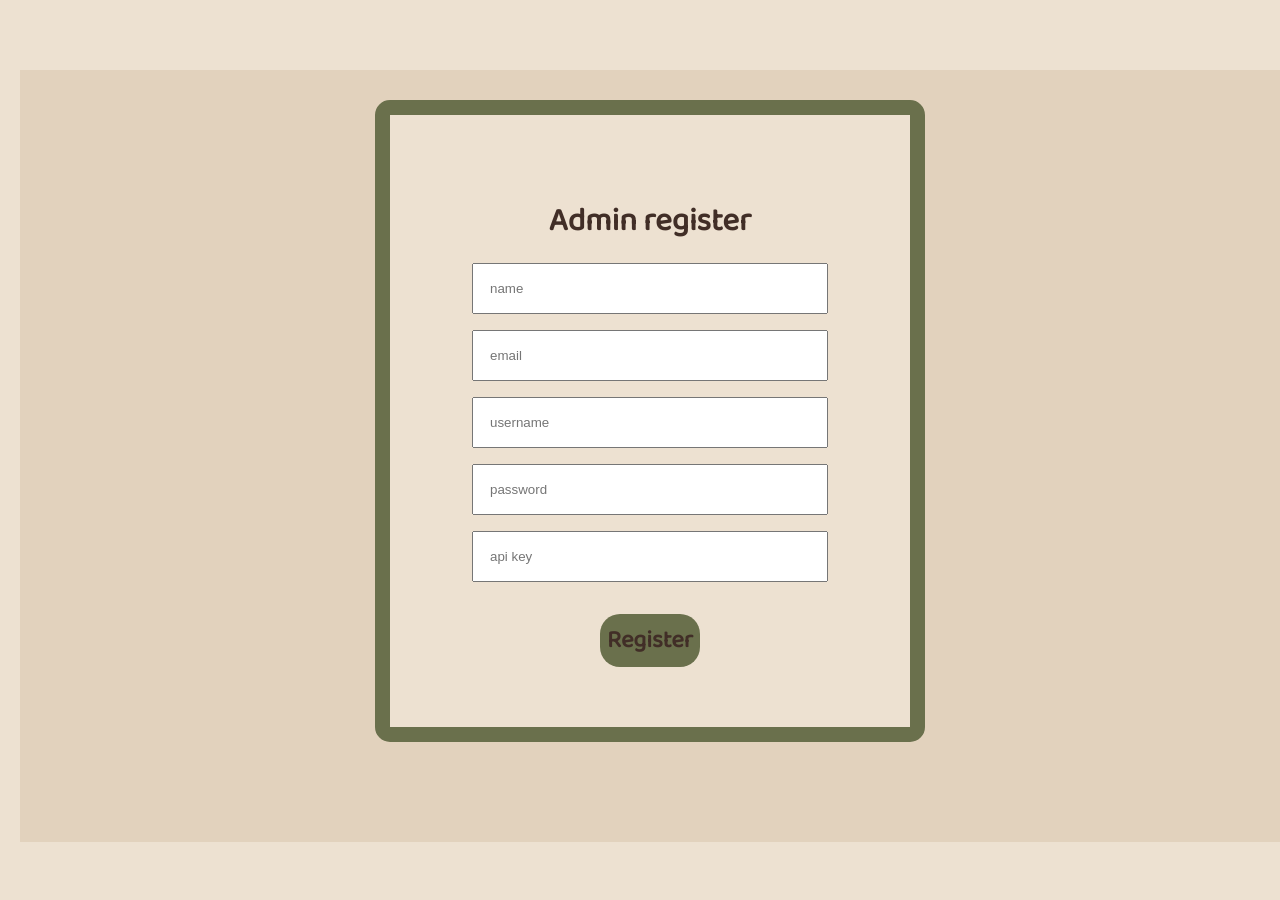
Test: AdminRegister component › should log error when adminregister fails
This screenshot has width=1280, height=900.
Type "testname" into the field with placeholder "name". click: [650, 289]
box: [472,263,828,314]
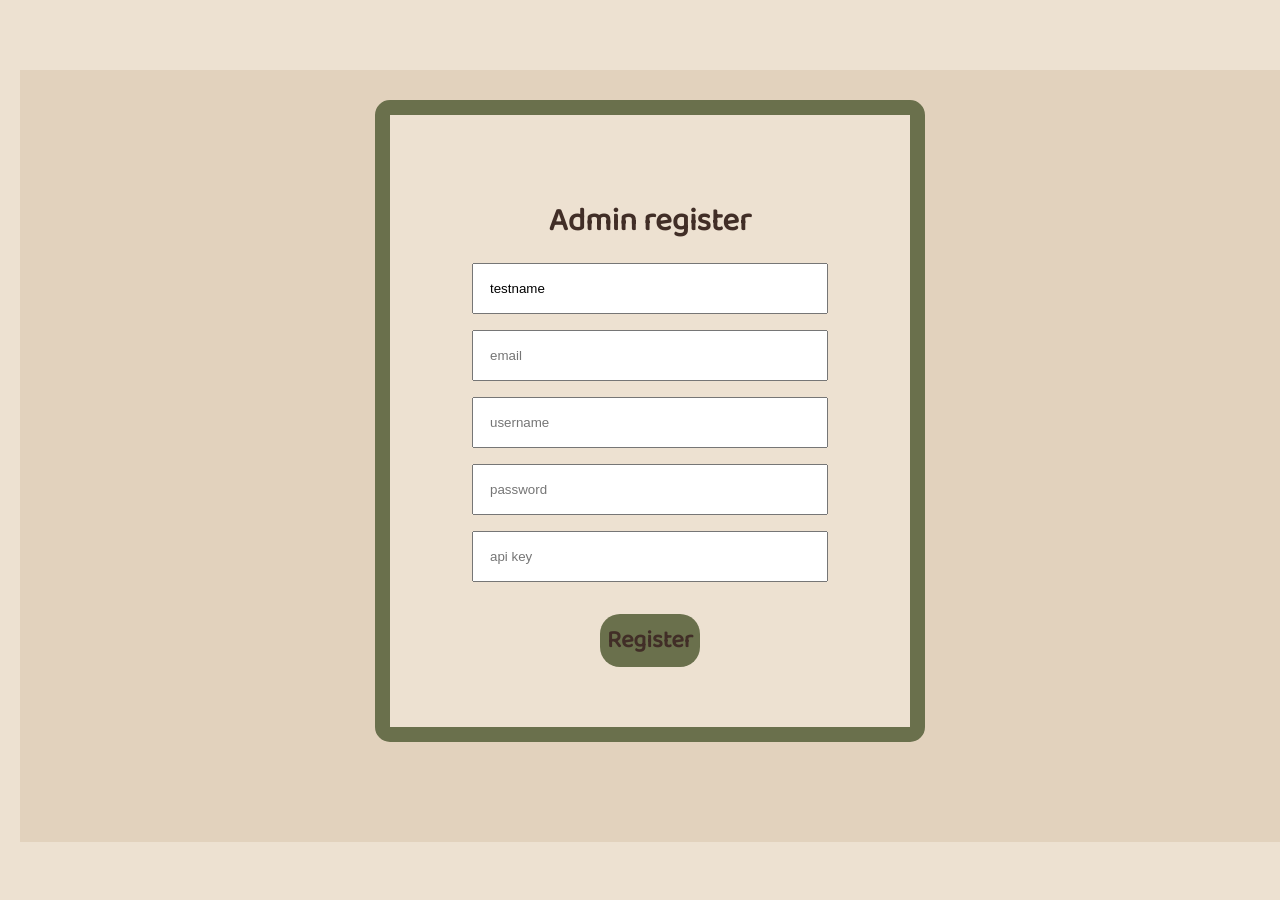
Type "testemail" into the field with placeholder "email". click: [650, 356]
box: [472,330,828,381]
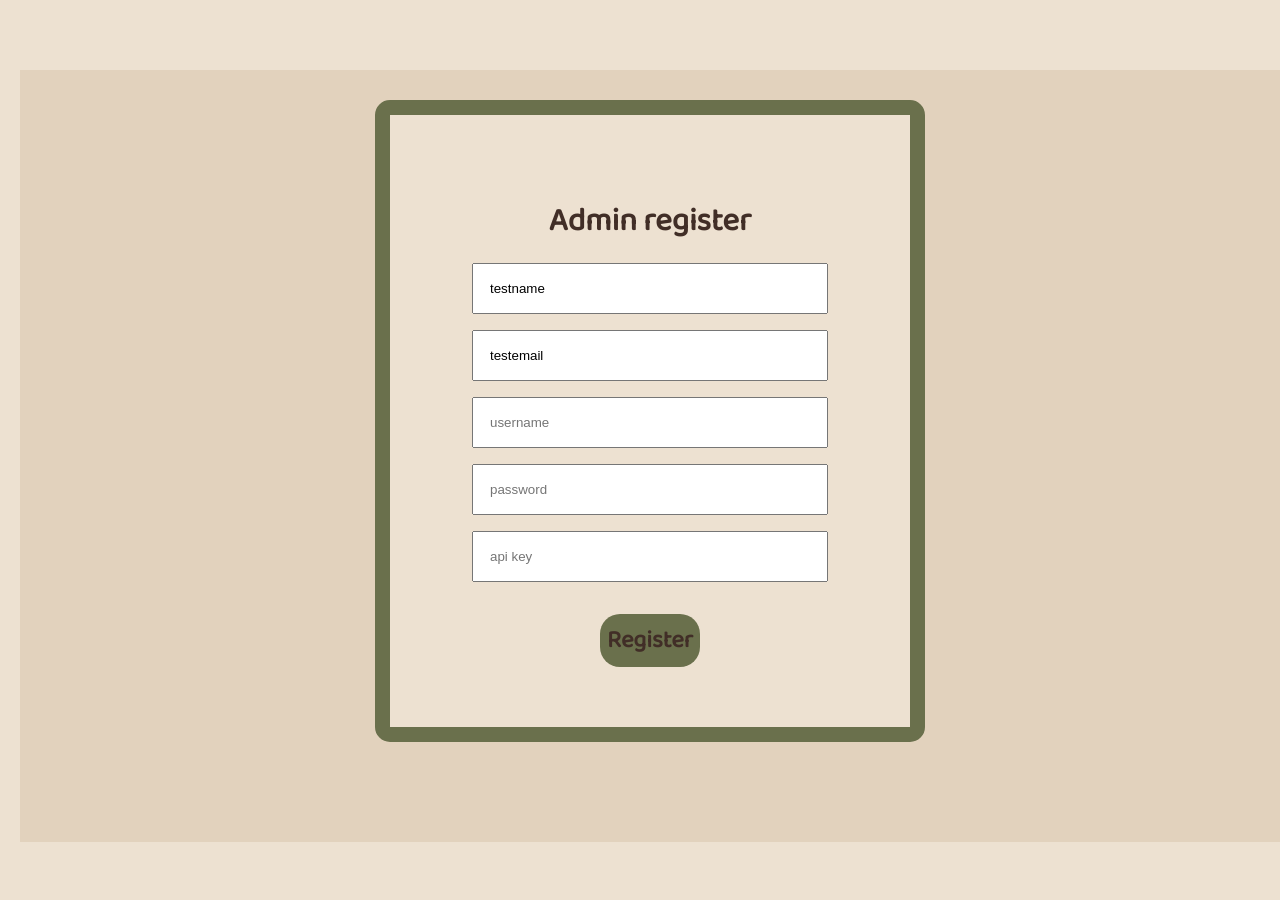
Type "testuser" into the field with placeholder "username". click: [650, 423]
box: [472,397,828,448]
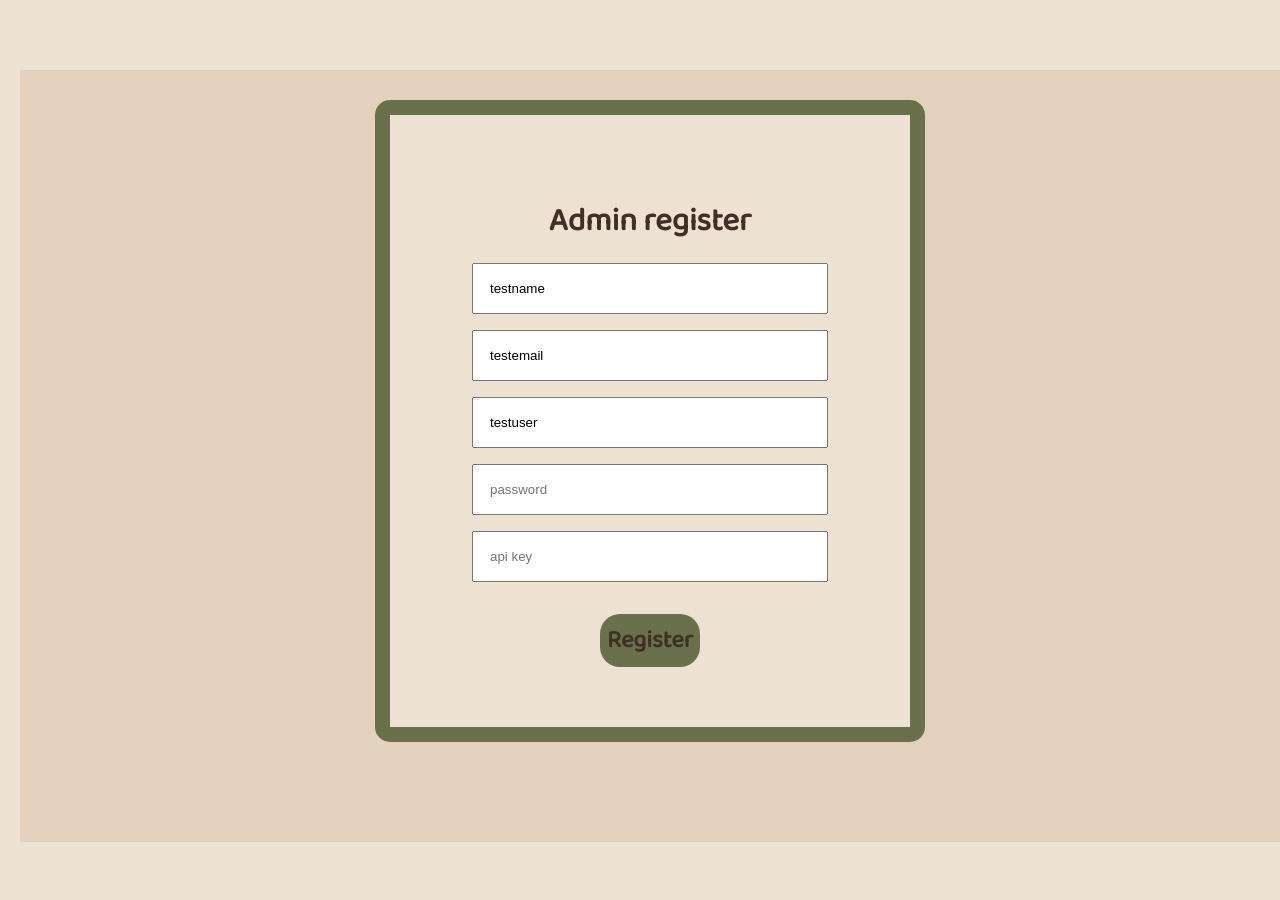
Type "testpassword" into the password field with placeholder "password". click: [650, 490]
box: [472,464,828,515]
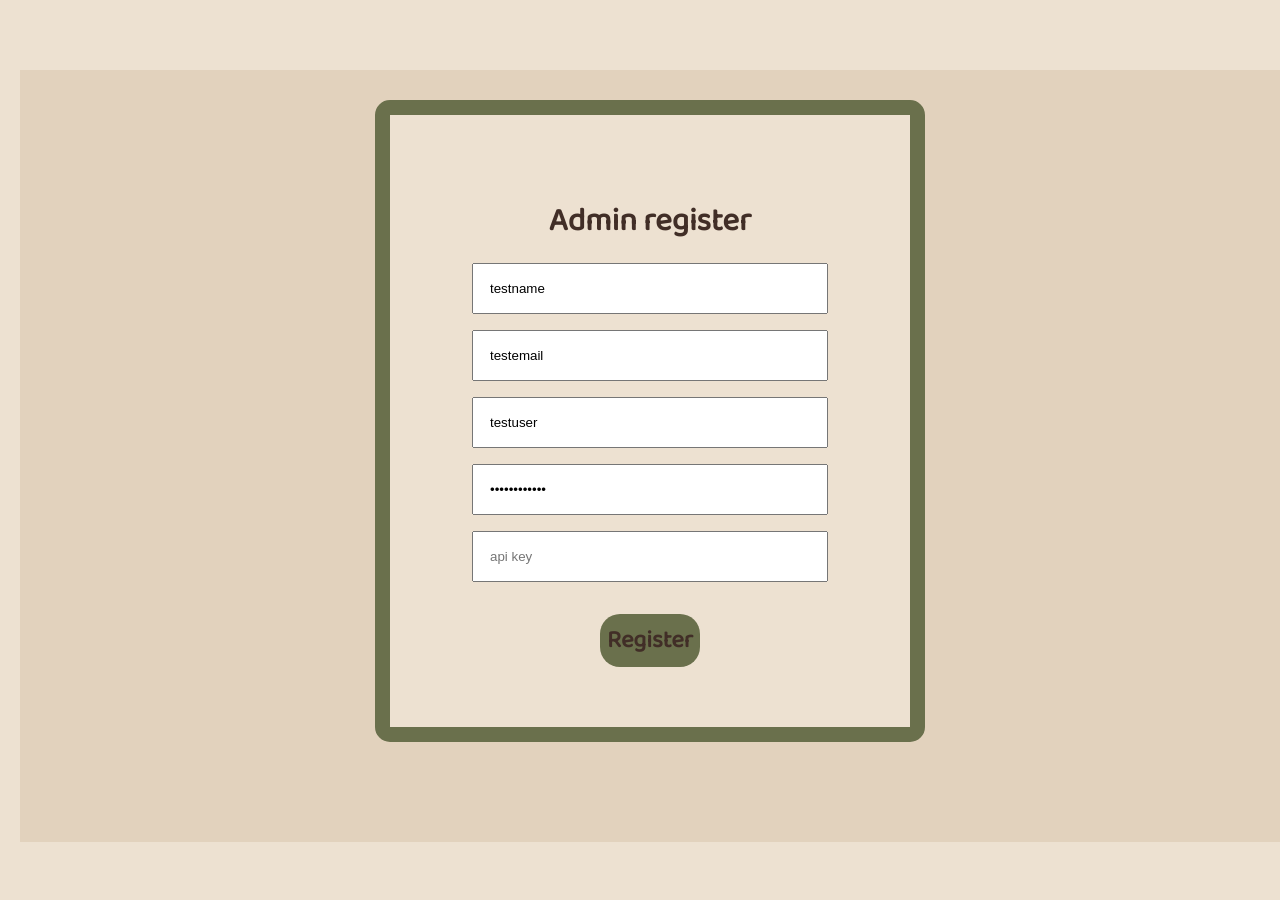
Type "testapi key" into the field with placeholder "api key". click: [650, 557]
box: [472,531,828,582]
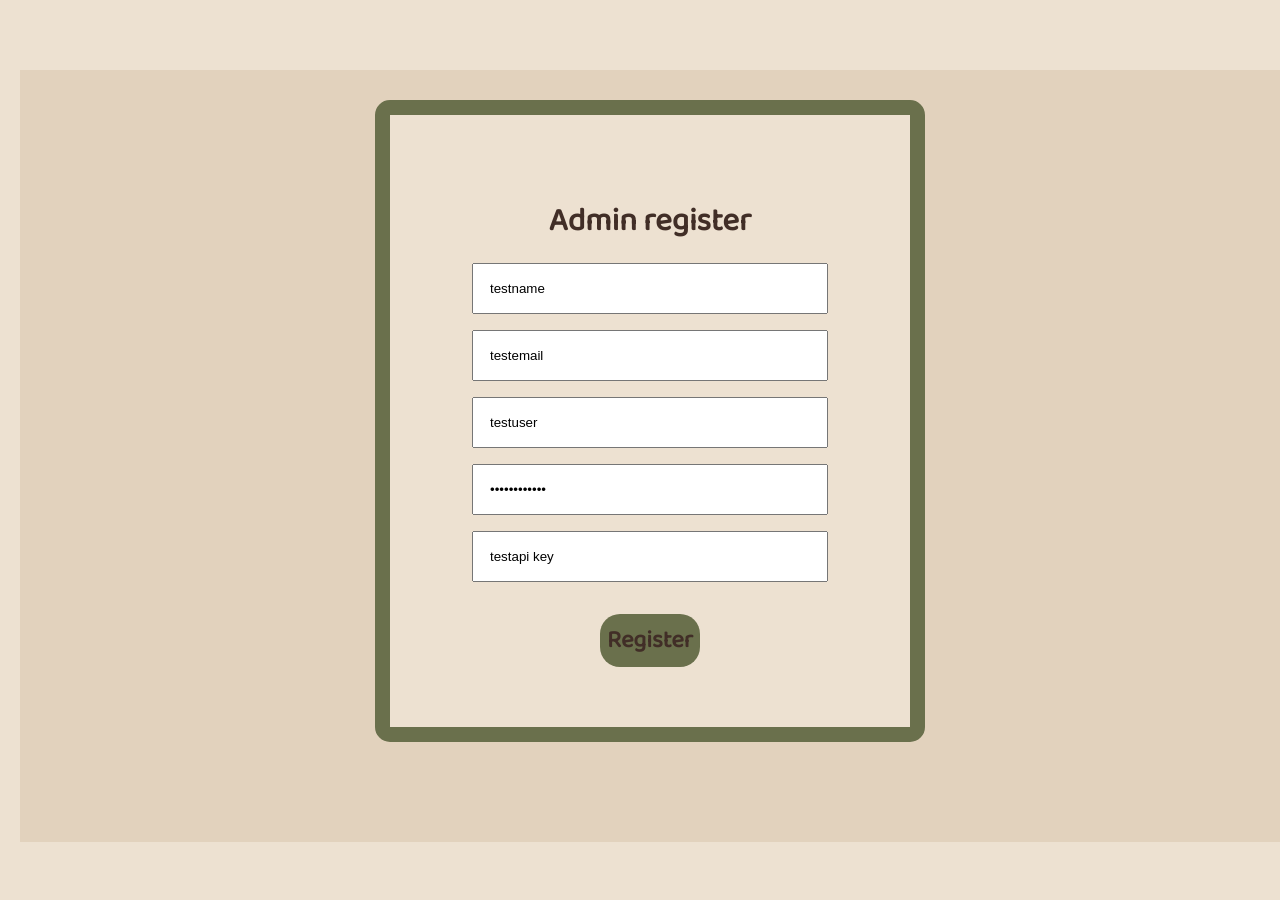
Submit the form from the button with test id "register-button", box [600,614,700,667]
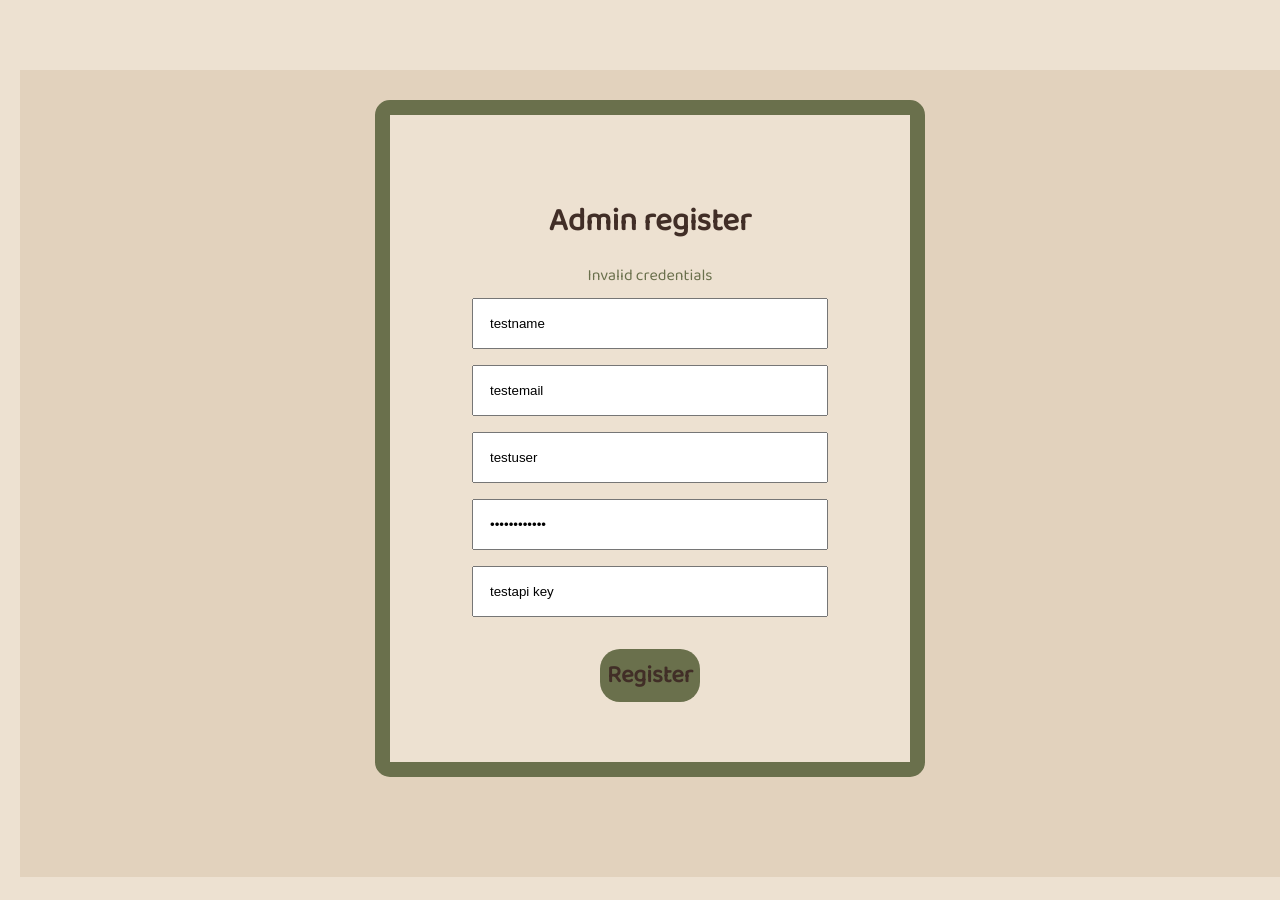
Expected: the text "Invalid credentials" is shown, [588,263,712,288]
